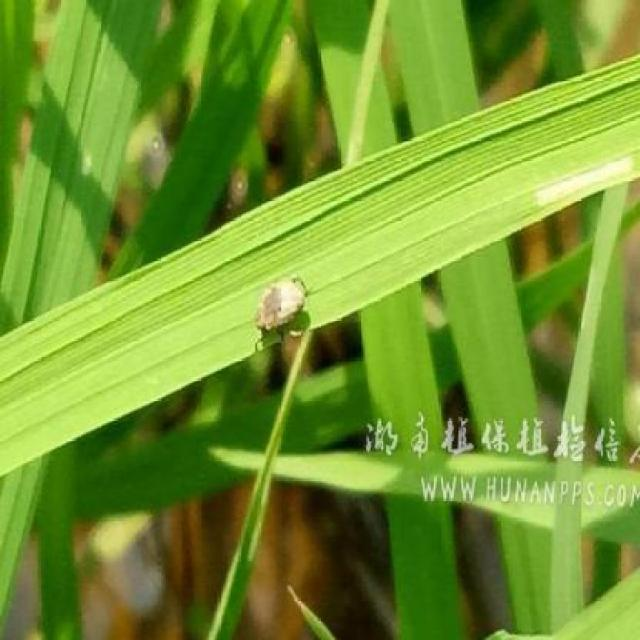rice-bug: (255, 272, 311, 352)
